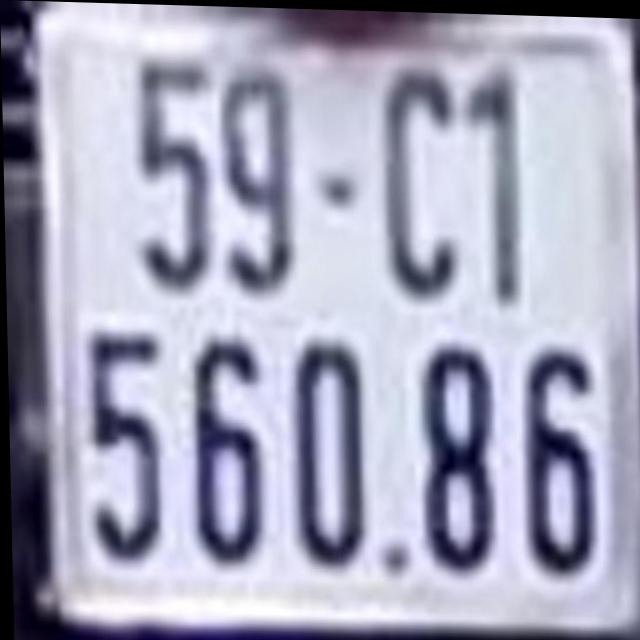0: (291, 334, 368, 572)
1: (468, 54, 527, 305)
5: (82, 323, 161, 558), (135, 54, 211, 288)
6: (187, 331, 264, 561), (522, 344, 594, 565)
8: (418, 339, 497, 565)
9: (222, 65, 292, 291)
C: (380, 61, 460, 288)
